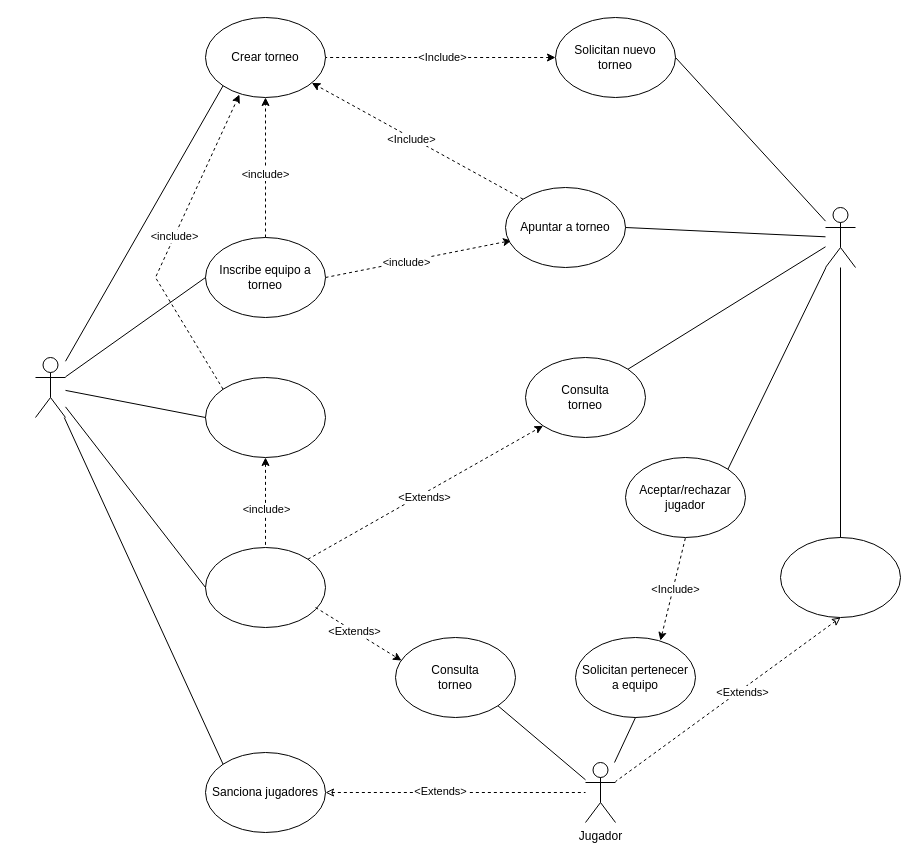
Some shapes in this 918 by 861 pixel diagram are drawn without their labels. The box of each missing label's shape, as (x1, y1, x2, y2) in pixels:
Crea partidas: (204, 376, 326, 458)
equipo: (824, 206, 856, 268)
Expulsar jugador: (780, 536, 900, 618)
Organizador: (34, 356, 66, 418)
Publica resultados: (204, 546, 326, 628)
